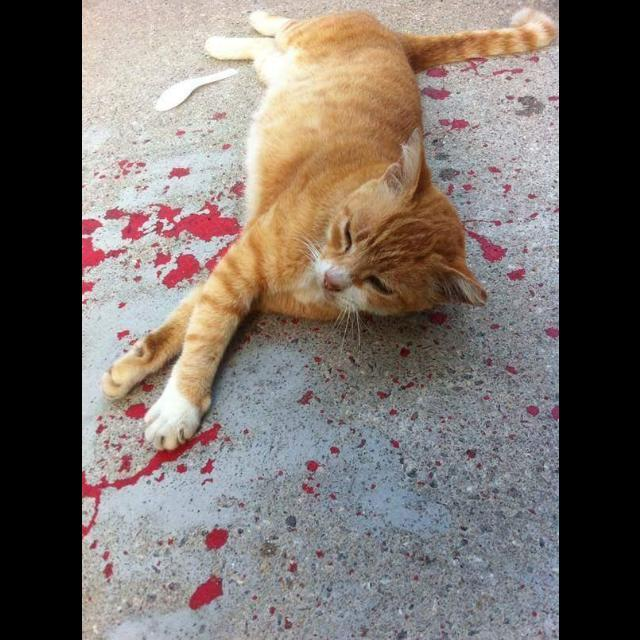blood: (421, 58, 529, 281), (82, 401, 220, 537), (82, 200, 240, 290), (116, 150, 236, 191), (83, 208, 149, 269), (497, 89, 546, 119), (187, 576, 222, 611), (188, 577, 221, 611), (221, 168, 245, 196), (204, 529, 227, 551), (261, 542, 276, 556), (305, 461, 319, 473), (285, 516, 296, 531), (81, 281, 93, 294), (200, 461, 211, 474), (301, 485, 313, 495)
